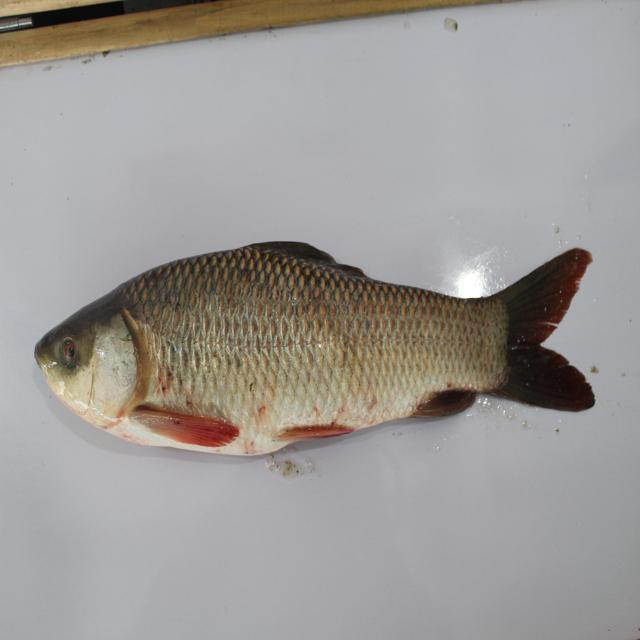Rohu: (33, 248, 609, 467)
